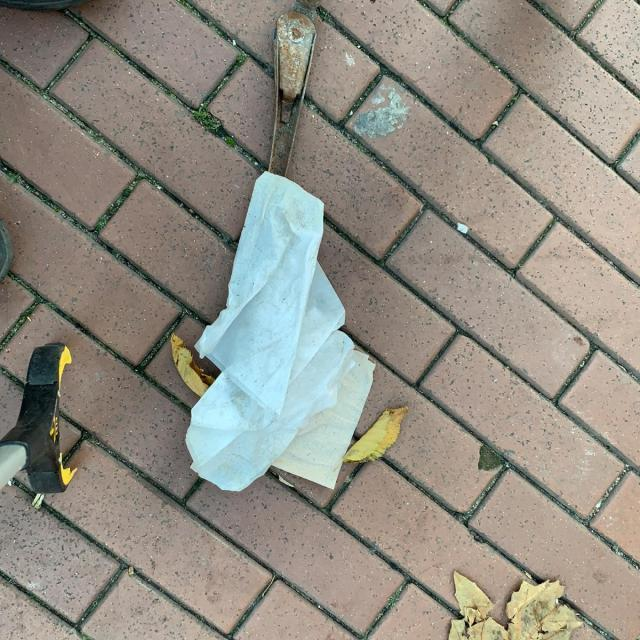Paper: (185, 169, 378, 496)
